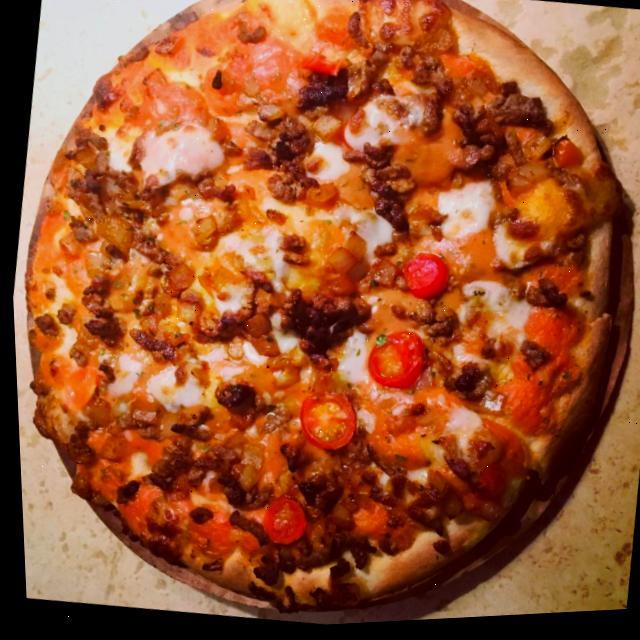pizza: (0, 0, 640, 640)
tomatoes: (361, 329, 425, 396), (291, 391, 356, 456), (396, 253, 450, 307), (255, 494, 305, 549), (548, 140, 583, 177)
